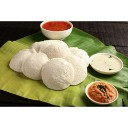idly: (43, 59, 72, 89), (23, 51, 49, 81), (63, 54, 86, 84), (10, 46, 32, 75), (42, 39, 70, 61)
